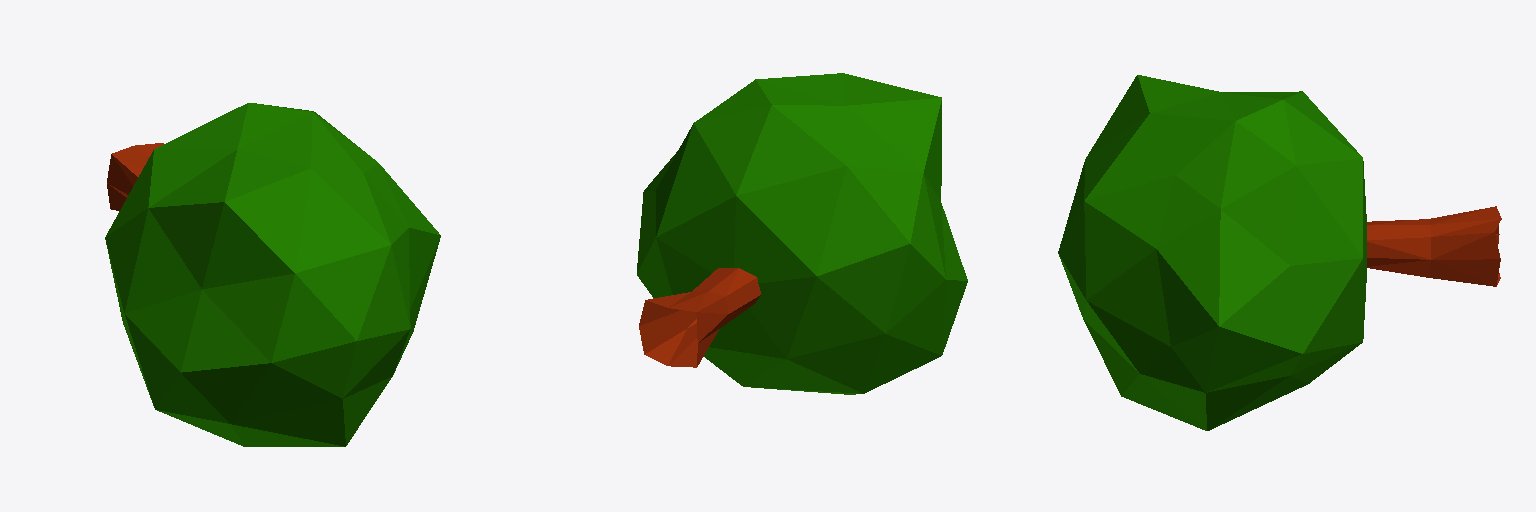
File: single_tree.obj
3 views of the same model, side by side, from view 1: azimuth 30°, elevation 25°; view 2: azimuth 150°, elevation 25°; view 3: azimuth 270°, elevation 25° (orthographic).
Bounding box in the file's own units: 1.15 × 1.09 × 1.42.